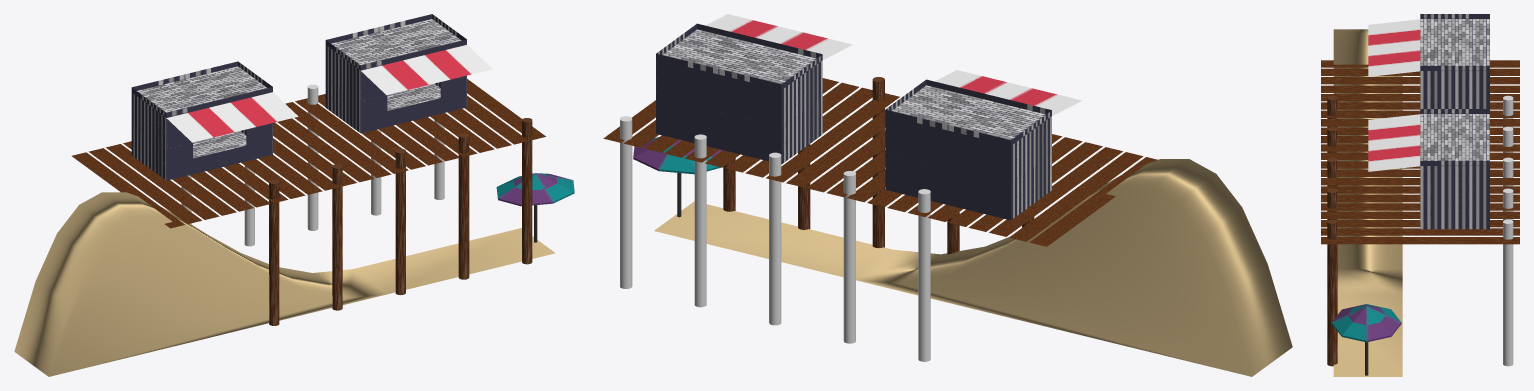
Rendered from VaporBeachWalk(F).fbx.
3 renders of one model, left to right at view 1: azimuth 30°, elevation 25°; view 2: azimuth 150°, elevation 25°; view 3: azimuth 270°, elevation 25°, orthographic. The views are drawn at different scales.
Visible parts, largest first — view 1: SandBar, BoardWalkPlanks, RightStore, LeftStore, RightBoardPost, RIghtStoreOverHang, LeftStoreOverHang, LeftBoardPost, UnbrellaTop; view 2: SandBar, BoardWalkPlanks, LeftStore, RightStore, LeftBoardPost, RightBoardPost, RIghtStoreOverHang, LeftStoreOverHang, UnbrellaTop; view 3: BoardWalkPlanks, SandBar, RightStore, LeftStore, LeftStoreOverHang, RIghtStoreOverHang, LeftBoardPost, RightBoardPost, UnbrellaTop.
Part boxes in pixels (x1,y1,x2,y2): SandBar: (14,192,555,376); BoardWalkPlanks: (72,79,545,228); RightStore: (325,14,466,133); LeftStore: (131,61,272,180); RightBoardPost: (269,118,532,325); RIghtStoreOverHang: (361,45,492,95); LeftStoreOverHang: (166,92,298,142); LeftBoardPost: (181,84,444,246); UnbrellaTop: (496,173,574,206); SandBar: (654,159,1292,376); BoardWalkPlanks: (603,78,1157,246); LeftStore: (885,79,1051,220); RightStore: (656,23,822,164); LeftBoardPost: (620,116,930,361); RightBoardPost: (723,77,1034,254); RIghtStoreOverHang: (705,14,852,59); LeftStoreOverHang: (935,70,1081,115); UnbrellaTop: (633,137,722,174); BoardWalkPlanks: (1321,60,1519,244); SandBar: (1333,29,1402,376); RightStore: (1420,109,1489,229); LeftStore: (1420,14,1489,108); LeftStoreOverHang: (1368,19,1420,76); RIghtStoreOverHang: (1368,114,1420,171); LeftBoardPost: (1503,95,1513,366); RightBoardPost: (1327,95,1337,366); UnbrellaTop: (1331,304,1401,342).
Bounding box in the file's own units: 1794 × 617 × 570.
8 materials, 5 textured.
